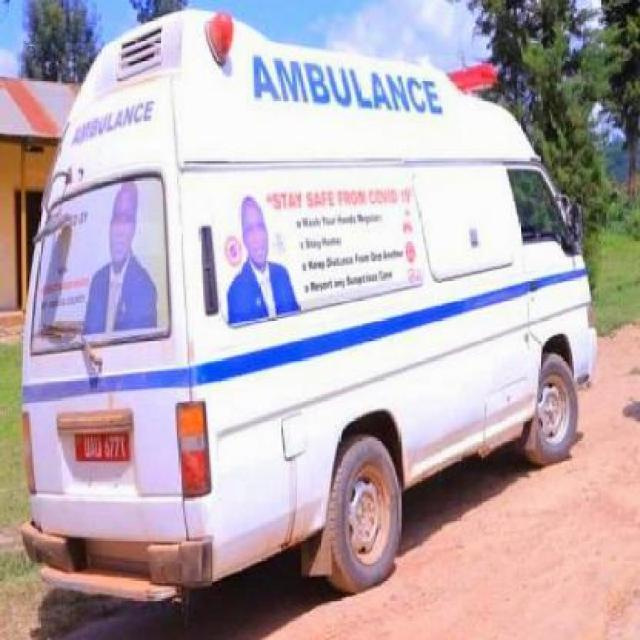emergency: (17, 6, 599, 618)
